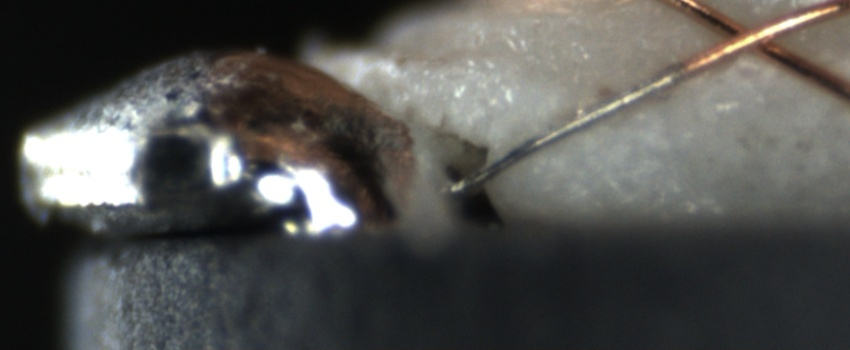CL: (701, 8, 795, 64)
TS: (452, 66, 685, 193)
